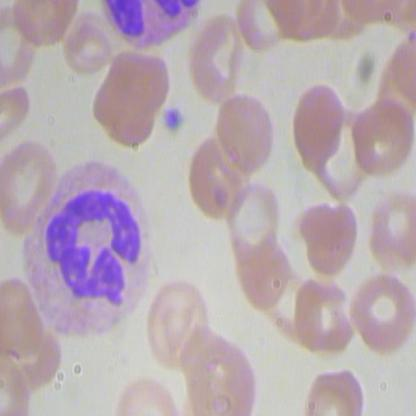Platelets: (159, 105, 186, 137)
RBC: (90, 47, 170, 153), (138, 276, 211, 375), (345, 268, 415, 360), (179, 12, 247, 106), (1, 137, 64, 237), (188, 133, 255, 224), (289, 275, 356, 360), (350, 93, 415, 175), (301, 198, 361, 280), (289, 83, 347, 164), (215, 95, 276, 172), (363, 184, 415, 270), (302, 366, 367, 415), (66, 14, 117, 75)
WBC: (11, 159, 157, 345)
